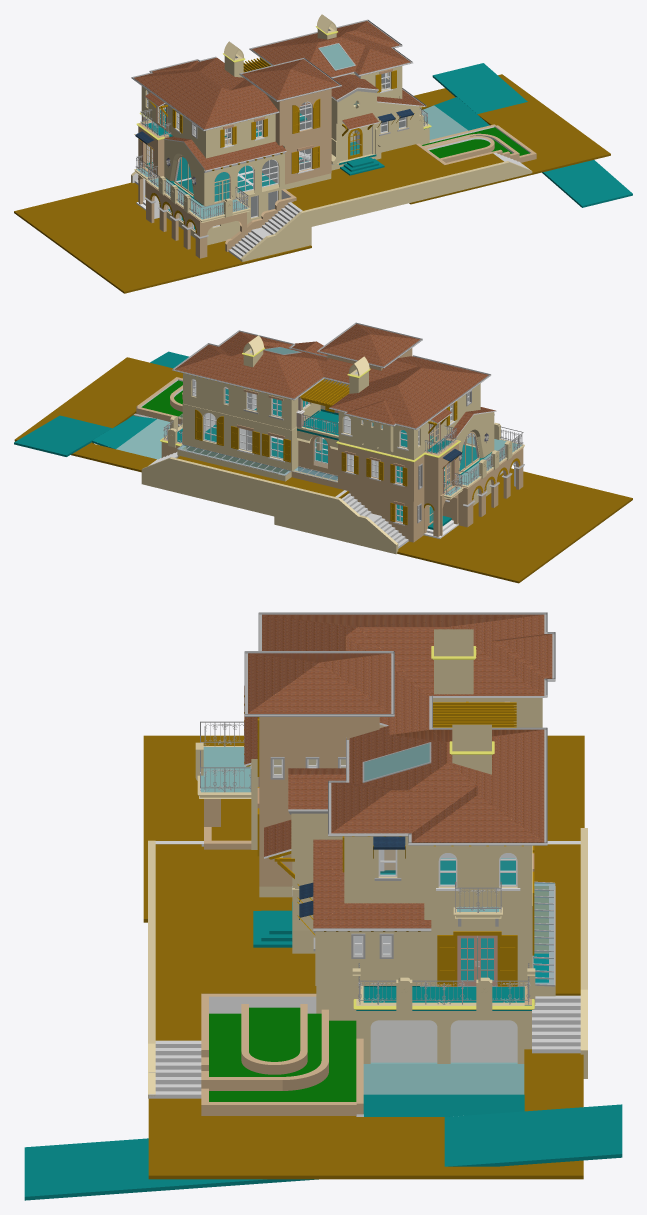
File: generic_1.glb
3 renders of one model, top to bottom at view 1: azimuth 30°, elevation 25°; view 2: azimuth 150°, elevation 25°; view 3: azimuth 270°, elevation 25°, orthographic. The views are drawn at different scales.
Visible parts, largest first — view 1: 室外100 (×3), 瓦屋面－有保温层 (×4), 外墙240 (×8), 常规 - 150mm (×3), 外墙200-文化石 (×3), 露台 (×2), 天沟-1 (×2), 外墙200-文化石 2, 外墙400, 楼梯, 花池 (×2), C1522 (×2) (+7 smaller); view 2: 室外100 (×3), 外墙240 (×7), 瓦屋面－有保温层 (×3), 外墙200-文化石 (×8), 常规 - 150mm (×5), 天沟-1 (×2), 露台 (×2), 外墙200-文化石 2, C1218 (×2), C0715 (×3), 外墙400, 花架构架 3.3M (+7 smaller); view 3: 室外100 (×3), 瓦屋面－有保温层 (×4), 外墙240 (×8), 常规 - 150mm (×5), 外墙200-文化石 (×6), 花池 (×3), 露台 (×2), JM2522 (×2), 楼梯 (×2), 天沟-1 (×2), LM1521, 常规模型 3 (×2) (+7 smaller).
Part boxes in pixels (x1,y1,x2,y2): 室外100 (×3): [14, 74, 610, 293]; 瓦屋面－有保温层 (×4): [134, 21, 410, 171]; 外墙240 (×8): [141, 67, 532, 261]; 常规 - 150mm (×3): [146, 63, 632, 207]; 外墙200-文化石 (×3): [198, 89, 328, 258]; 露台 (×2): [149, 105, 467, 219]; 天沟-1 (×2): [131, 19, 412, 130]; 外墙200-文化石 2: [146, 181, 198, 256]; 外墙400: [164, 139, 202, 204]; 楼梯: [228, 202, 302, 259]; 花池 (×2): [422, 127, 529, 158]; C1522 (×2): [237, 159, 278, 193]; 室外100 (×3): [14, 357, 632, 583]; 外墙240 (×7): [141, 373, 478, 554]; 瓦屋面－有保温层 (×3): [175, 324, 496, 439]; 外墙200-文化石 (×8): [161, 435, 465, 542]; 常规 - 150mm (×5): [14, 351, 491, 490]; 天沟-1 (×2): [172, 322, 491, 429]; 露台 (×2): [116, 419, 521, 485]; 外墙200-文化石 2: [464, 449, 521, 527]; C1218 (×2): [231, 424, 290, 462]; C0715 (×3): [341, 451, 407, 486]; 外墙400: [456, 412, 492, 472]; 花架构架 3.3M: [299, 379, 349, 406]; 室外100 (×3): [143, 735, 584, 1179]; 瓦屋面－有保温层 (×4): [248, 614, 552, 928]; 外墙240 (×8): [148, 660, 587, 1098]; 常规 - 150mm (×5): [24, 858, 622, 1200]; 外墙200-文化石 (×6): [201, 717, 379, 1116]; 花池 (×3): [209, 1007, 356, 1101]; 露台 (×2): [201, 747, 524, 1094]; JM2522 (×2): [370, 1020, 517, 1062]; 楼梯 (×2): [148, 995, 580, 1098]; 天沟-1 (×2): [244, 612, 555, 845]; LM1521: [437, 931, 517, 986]; 常规模型 3 (×2): [434, 629, 491, 751].
Size of the model in its own units: 42.2 by 12.1 by 22.39.
Materials: 42 (2 with a texture image).
